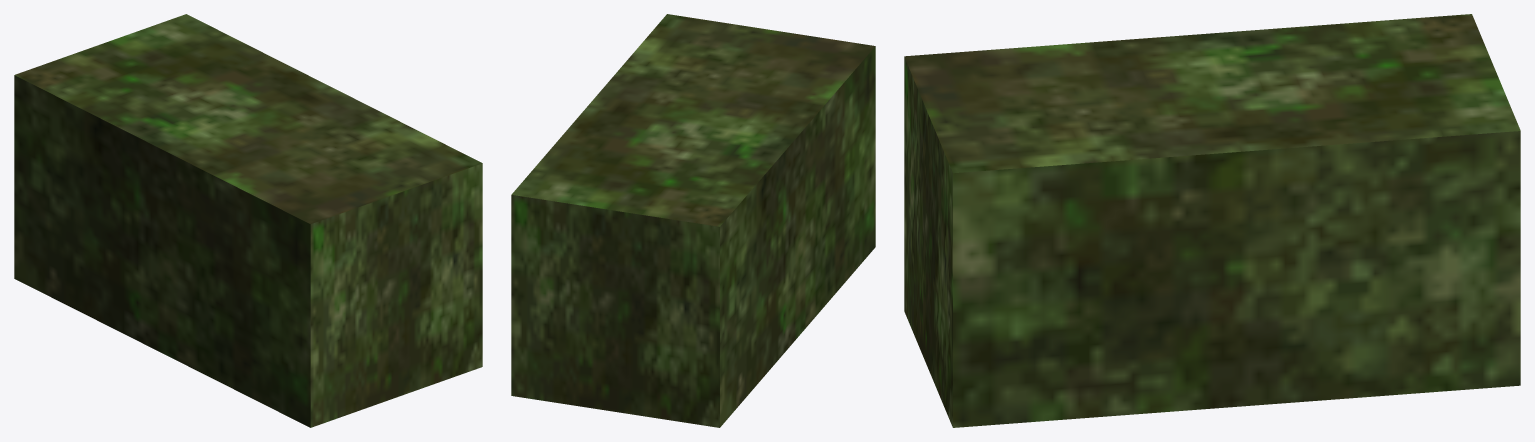
The model's file is OVERHILL_A_01_STONE_BLOCK_16.fbx.
The picture shows the model from 3 angles, left to right: view 1: azimuth 30°, elevation 25°; view 2: azimuth 150°, elevation 25°; view 3: azimuth 270°, elevation 25°; orthographic projection. The views are drawn at different scales.
Parts seen in each view (by area): view 1: OVERHILL_A_01_STONE_BLOCK_16; view 2: OVERHILL_A_01_STONE_BLOCK_16; view 3: OVERHILL_A_01_STONE_BLOCK_16.
Boxes of the visible parts, x1,y1,x2,y2 form: OVERHILL_A_01_STONE_BLOCK_16: (14, 14, 482, 427); OVERHILL_A_01_STONE_BLOCK_16: (511, 14, 875, 427); OVERHILL_A_01_STONE_BLOCK_16: (904, 14, 1520, 427).
Bounding box in the file's own units: 10611 × 7913 × 17360.
1 material, 1 textured.
